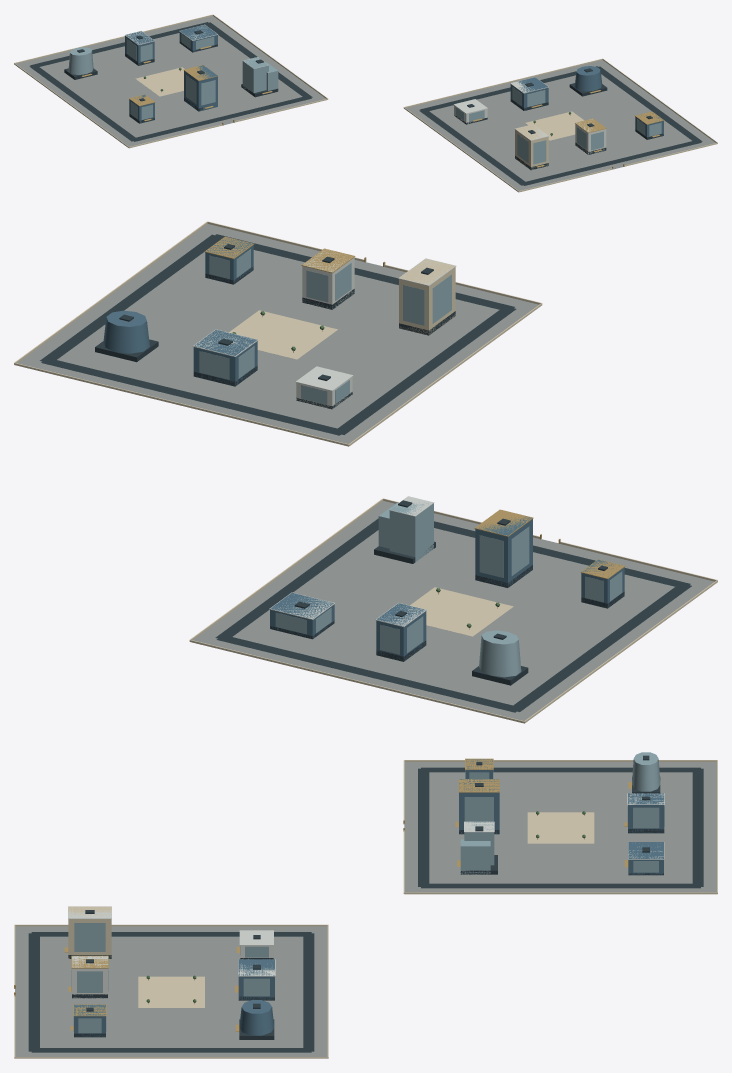
File: GC-TILE-16-06.glb
The picture shows the model from 3 angles, top to bottom: view 1: azimuth 30°, elevation 25°; view 2: azimuth 150°, elevation 25°; view 3: azimuth 270°, elevation 25°; orthographic projection. The views are drawn at different scales.
Visible parts, largest first — view 1: GC-TILE-16-06-paving, GC-TILE-16-06-dark, GC-TILE-16-06-ivory, GC-TILE-16-06-glass, GC-TILE-16-06-blue, GC-TILE-16-06-white, GC-TILE-16-06-gold; view 2: GC-TILE-16-06-paving, GC-TILE-16-06-dark, GC-TILE-16-06-ivory, GC-TILE-16-06-glass, GC-TILE-16-06-blue, GC-TILE-16-06-white, GC-TILE-16-06-gold; view 3: GC-TILE-16-06-paving, GC-TILE-16-06-dark, GC-TILE-16-06-ivory, GC-TILE-16-06-glass, GC-TILE-16-06-blue, GC-TILE-16-06-white, GC-TILE-16-06-gold.
Part boxes in pixels (x1,y1,x2,y2): GC-TILE-16-06-paving: (16,16,715,190); GC-TILE-16-06-dark: (29,22,702,185); GC-TILE-16-06-ivory: (14,14,717,192); GC-TILE-16-06-glass: (68,34,661,164); GC-TILE-16-06-blue: (125,25,663,137); GC-TILE-16-06-white: (124,24,606,154); GC-TILE-16-06-gold: (81,46,664,169); GC-TILE-16-06-paving: (17,224,714,720); GC-TILE-16-06-dark: (40,234,691,712); GC-TILE-16-06-ivory: (14,221,717,723); GC-TILE-16-06-glass: (199,249,622,677); GC-TILE-16-06-blue: (103,237,624,661); GC-TILE-16-06-white: (192,249,456,627); GC-TILE-16-06-gold: (204,236,625,579); GC-TILE-16-06-paving: (15,762,716,1056); GC-TILE-16-06-dark: (28,755,703,1052); GC-TILE-16-06-ivory: (14,760,717,1058); GC-TILE-16-06-glass: (71,752,664,1033); GC-TILE-16-06-blue: (74,759,664,1036); GC-TILE-16-06-white: (68,793,664,998); GC-TILE-16-06-gold: (14,758,631,1031).
Size of the model in its own units: 759 by 51.93 by 760.
